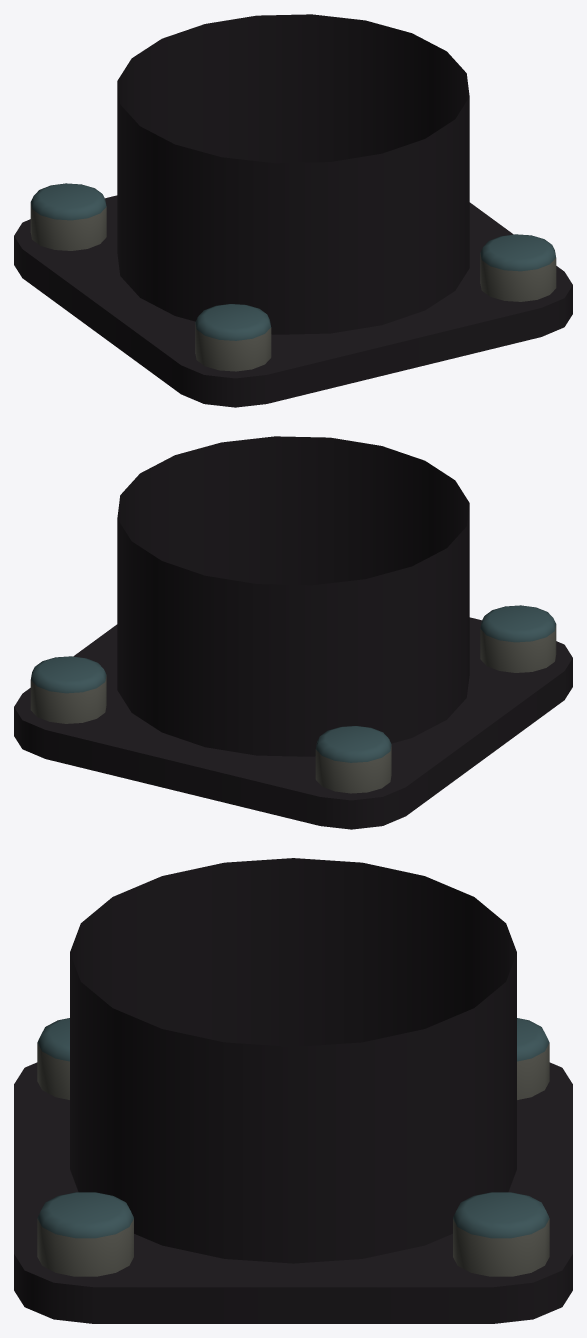
Rendered from EM_039_cylinder_vertical_small_start.glb.
3 views of the same model, one above another, from view 1: azimuth 30°, elevation 25°; view 2: azimuth 150°, elevation 25°; view 3: azimuth 270°, elevation 25° (orthographic). The views are drawn at different scales.
Parts seen in each view (by area): view 1: cylinder, wall_attachment, screws; view 2: cylinder, wall_attachment, screws; view 3: cylinder, wall_attachment, screws.
Boxes of the visible parts, x1=… form: cylinder: x1=117, y1=14, x2=469, y2=334; wall_attachment: x1=14, y1=195, x2=572, y2=407; screws: x1=30, y1=183, x2=556, y2=371; cylinder: x1=117, y1=436, x2=469, y2=756; wall_attachment: x1=14, y1=617, x2=572, y2=829; screws: x1=30, y1=605, x2=556, y2=793; cylinder: x1=70, y1=858, x2=516, y2=1263; wall_attachment: x1=14, y1=1062, x2=572, y2=1323; screws: x1=37, y1=1018, x2=549, y2=1276.
Size of the model in its own units: 0.75 by 0.375 by 0.75.
